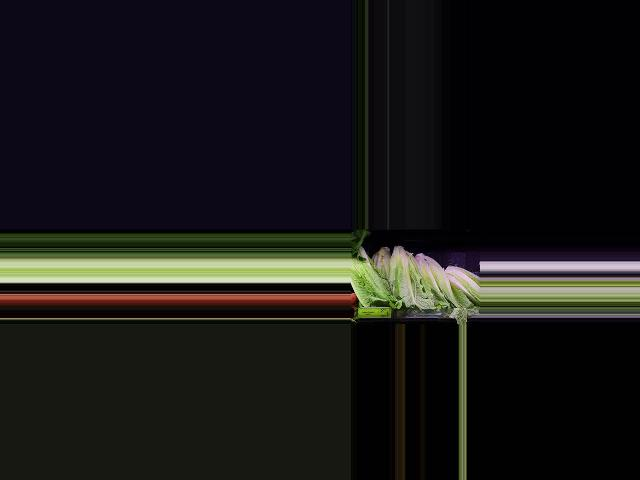lettuce: (442, 264, 480, 305)
